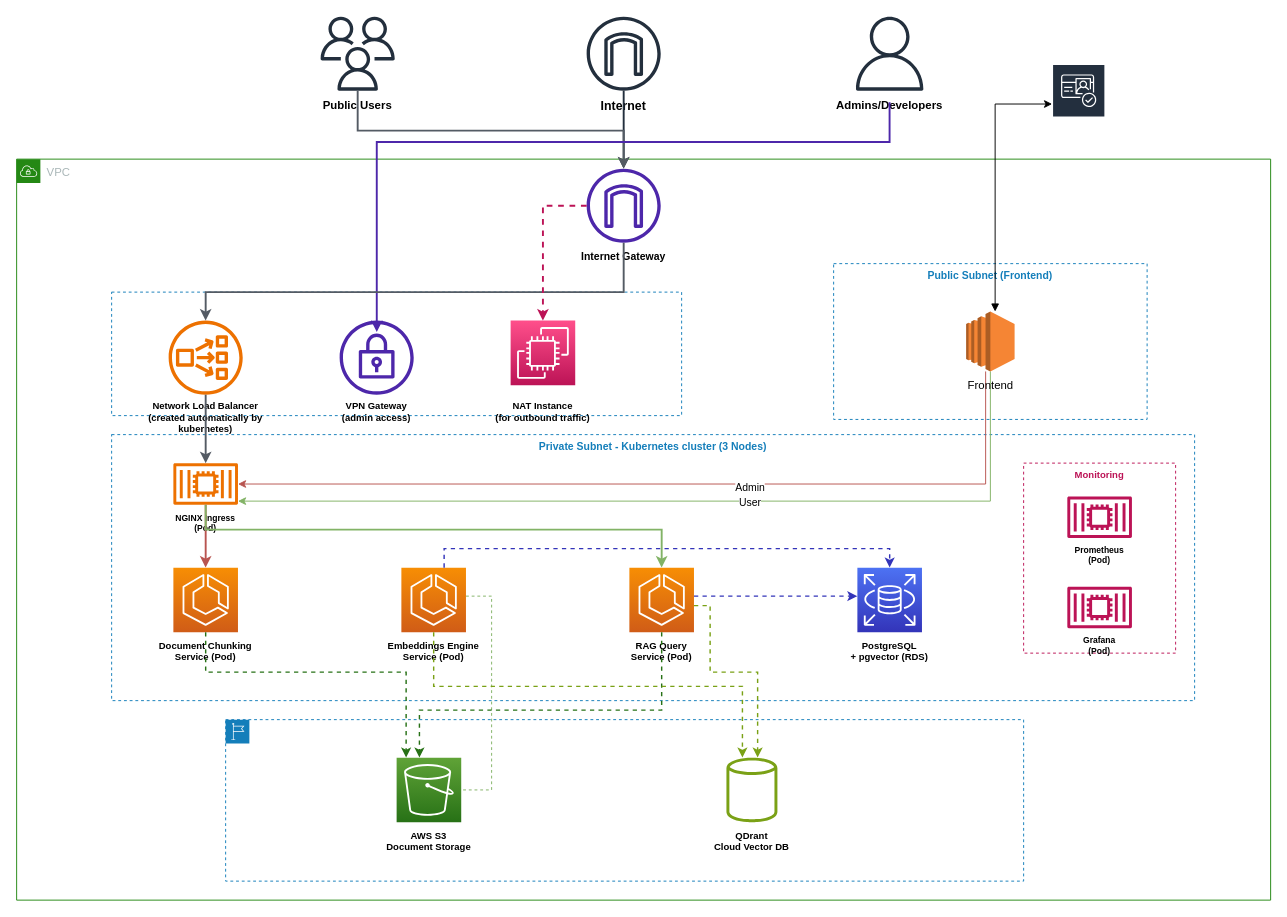
The diagram is 1287 pixels wide and 917 high, and some of its shapes have lost their labels. Each missing label, with the box of its shape:
Amazon Cognito: (1051, 63, 1105, 145)
External cloud services (via NAT Instance + IGW): (225, 719, 1024, 881)
Public Subnet: (111, 291, 682, 416)
